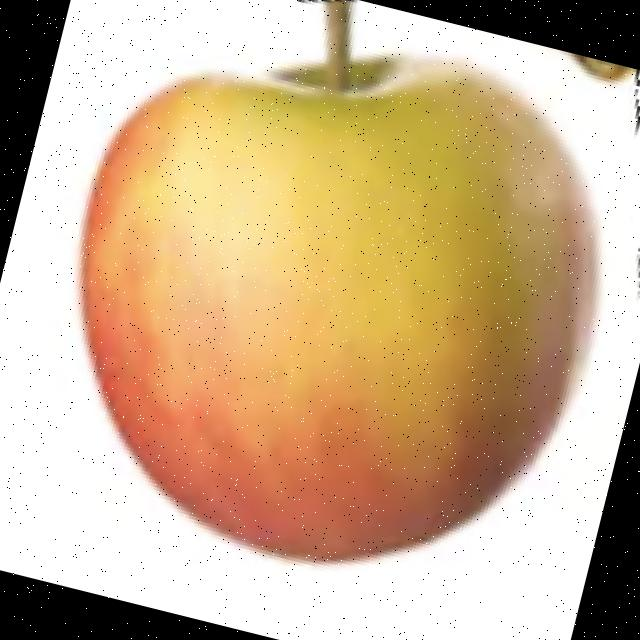apple: (68, 0, 605, 571)
